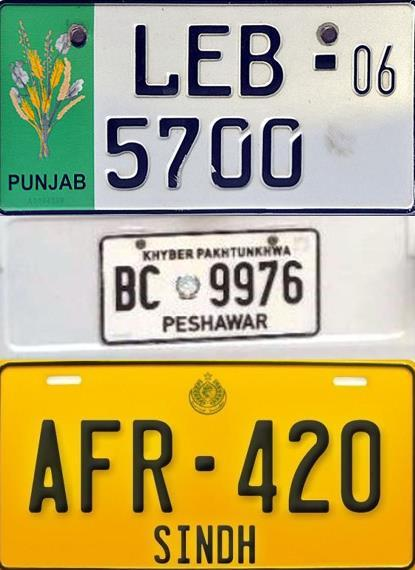plate: (1, 1, 415, 212), (1, 360, 415, 569), (93, 222, 327, 346)
